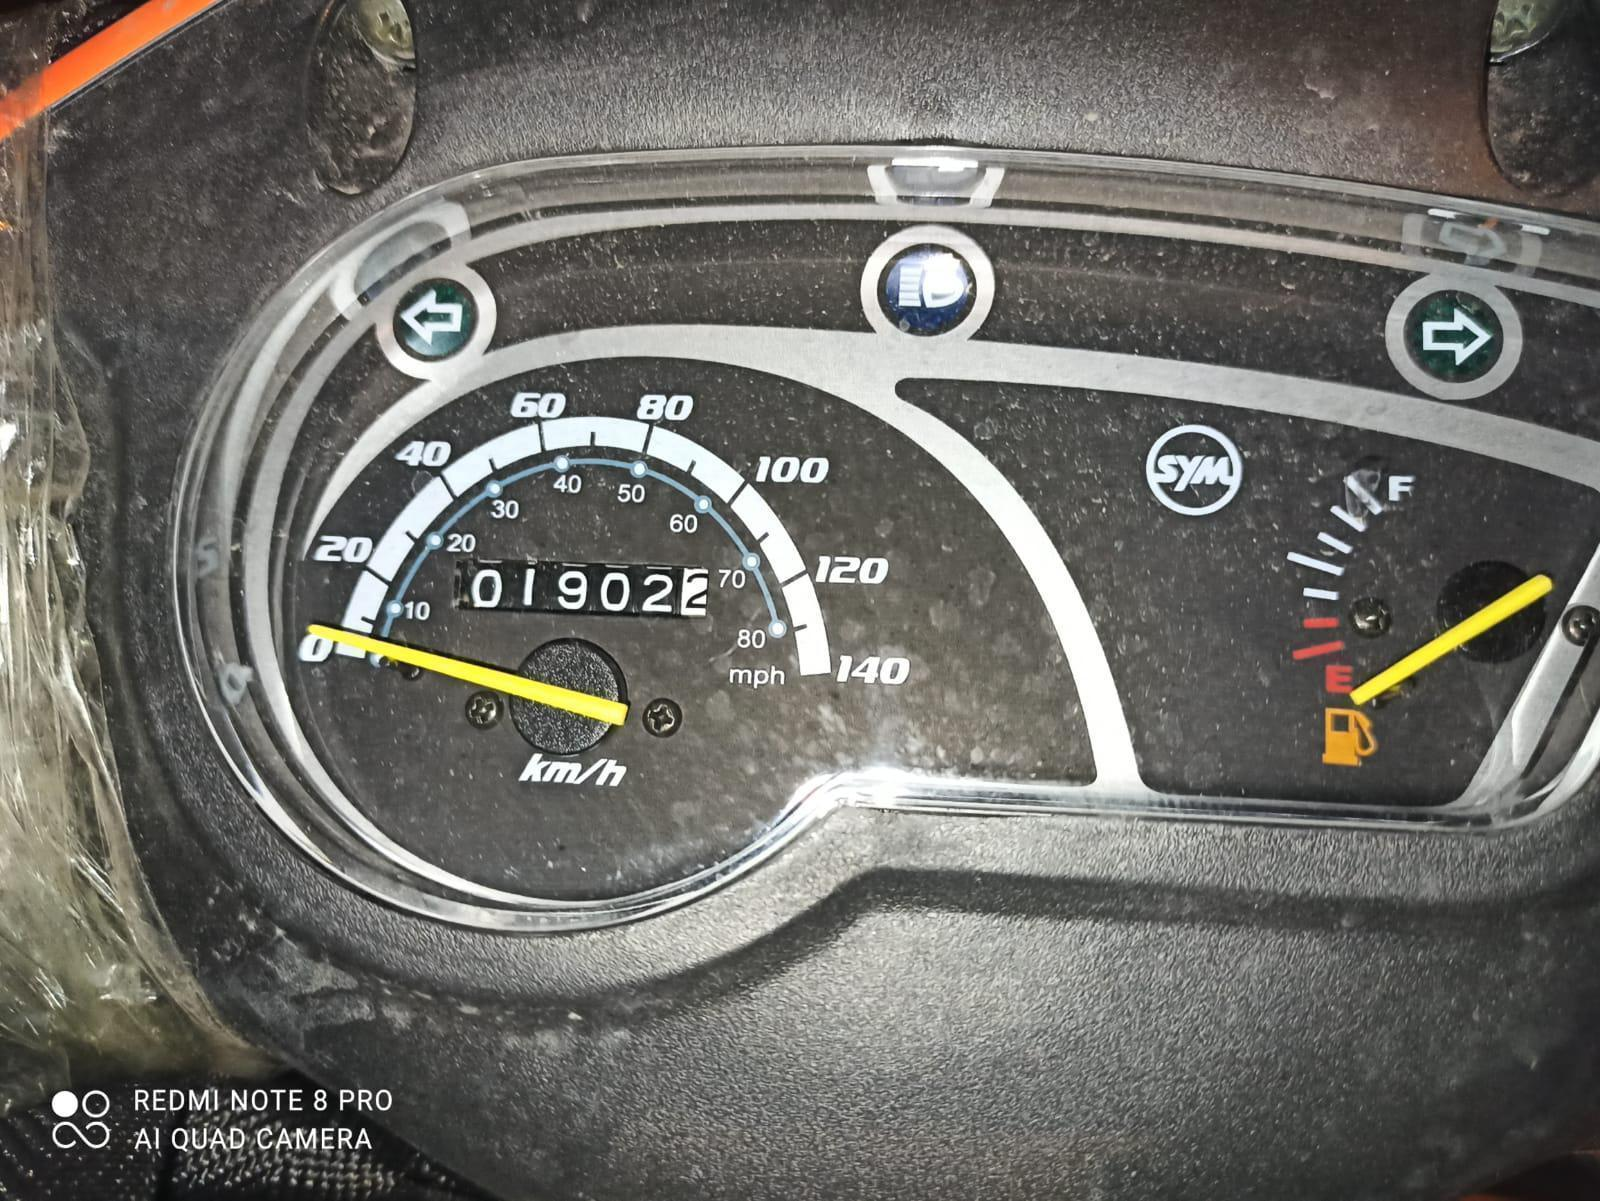0: (468, 566, 503, 609), (599, 570, 631, 612)
1: (521, 566, 538, 606)
2: (642, 571, 673, 614), (685, 571, 709, 611)
9: (556, 568, 589, 611)
odometer: (453, 550, 721, 626)
